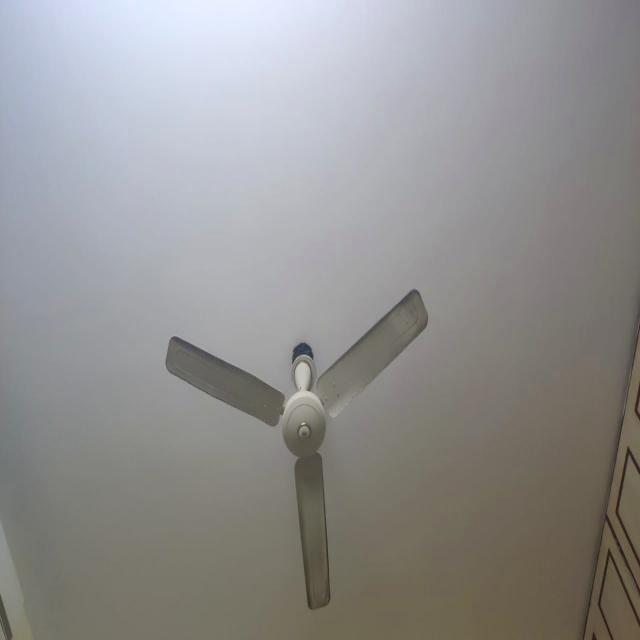Non_Damaged: (6, 6, 634, 640)
